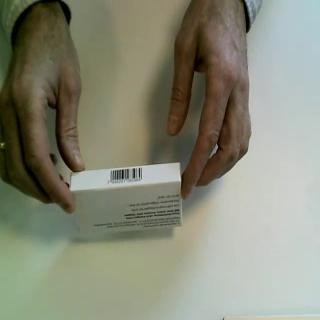oxycontin15mg: (68, 161, 184, 239)
